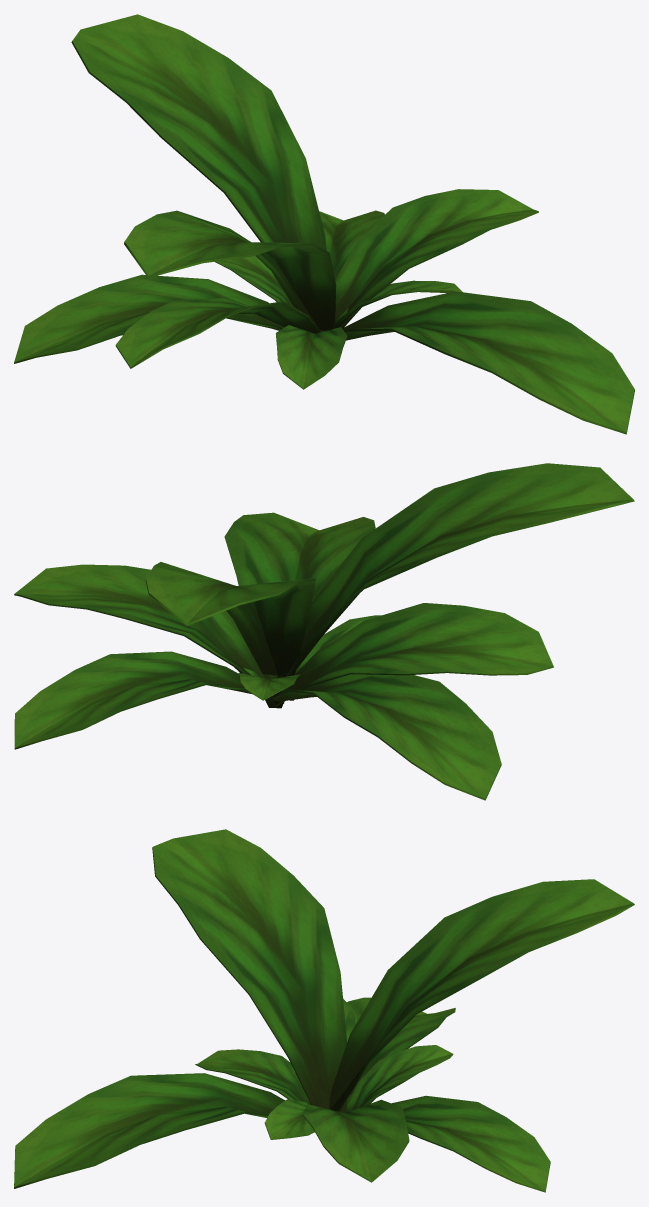
File: JunglePlant.glb
3 views of the same model, one above another, from view 1: azimuth 30°, elevation 25°; view 2: azimuth 150°, elevation 25°; view 3: azimuth 270°, elevation 25° (orthographic). The views are drawn at different scales.
Parts seen in each view (by area): view 1: Plant_Big; view 2: Plant_Big; view 3: Plant_Big.
Part boxes in pixels (<box>): Plant_Big: <box>14,14,634,434</box>; Plant_Big: <box>14,463,634,800</box>; Plant_Big: <box>14,829,634,1192</box>.
Size of the model in its own units: 1.8 by 0.795 by 2.13.
1 material, 1 textured.
